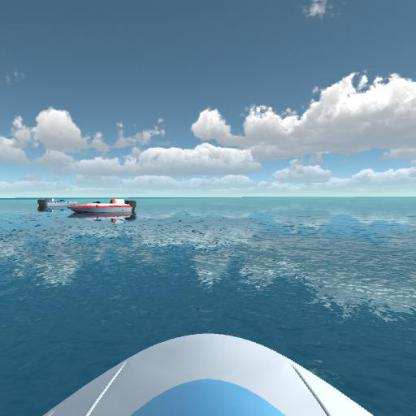usv1: (36, 192, 78, 214)
usv3: (70, 196, 142, 224)
